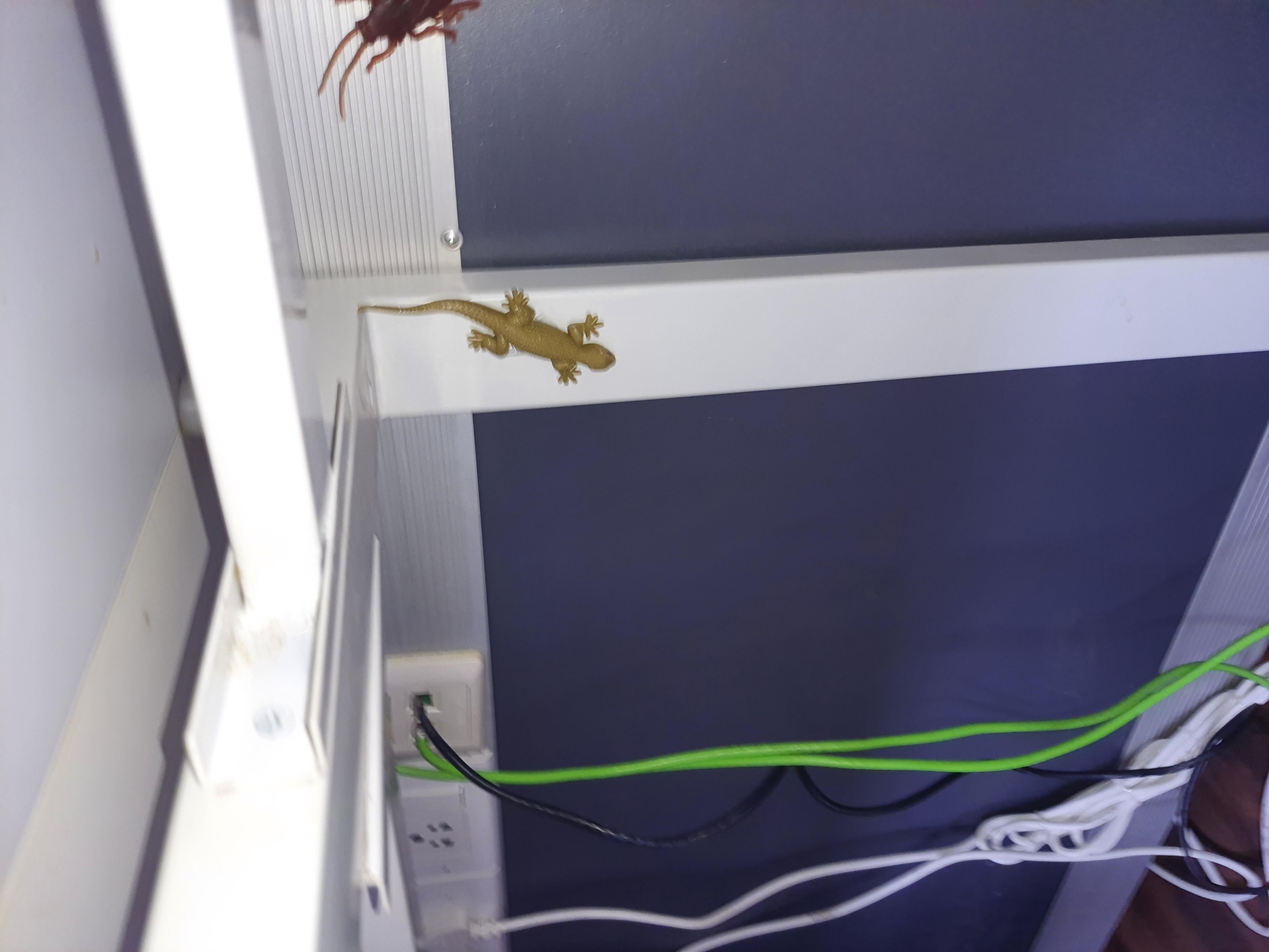cockroach: (1084, 221, 1269, 366)
lizard: (744, 258, 896, 478)
